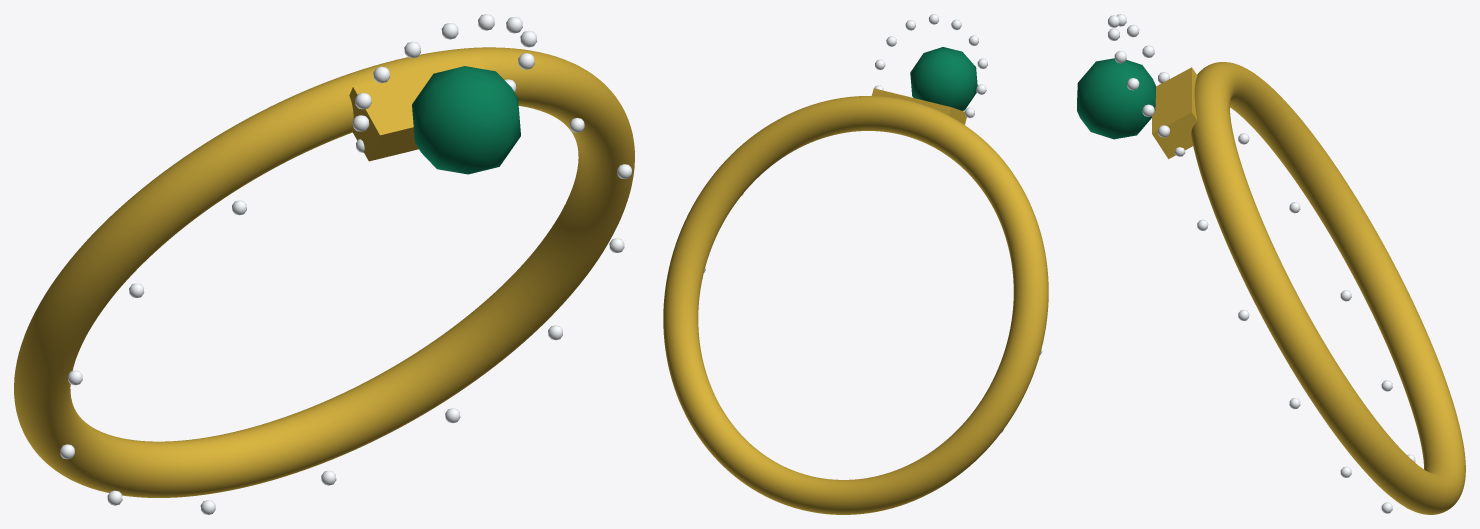
File: emerald-palace-earrings.glb
3 renders of one model, left to right at view 1: azimuth 30°, elevation 25°; view 2: azimuth 150°, elevation 25°; view 3: azimuth 270°, elevation 25°, orthographic. The views are drawn at different scales.
Parts seen in each view (by area): view 1: gold_band, hero_gemstone, gold_setting; view 2: gold_band, hero_gemstone, gold_setting; view 3: gold_band, hero_gemstone, gold_setting.
Part boxes in pixels (x1,y1,x2,y2): gold_band: (14,47,634,497); hero_gemstone: (412,66,520,174); gold_setting: (349,56,485,161); gold_band: (663,96,1048,514); hero_gemstone: (910,47,977,110); gold_setting: (871,88,966,124); gold_band: (1191,62,1465,514); hero_gemstone: (1077,58,1155,139); gold_setting: (1152,67,1197,159).
Bounding box in the file's own units: 2.17 × 2.21 × 1.67.
